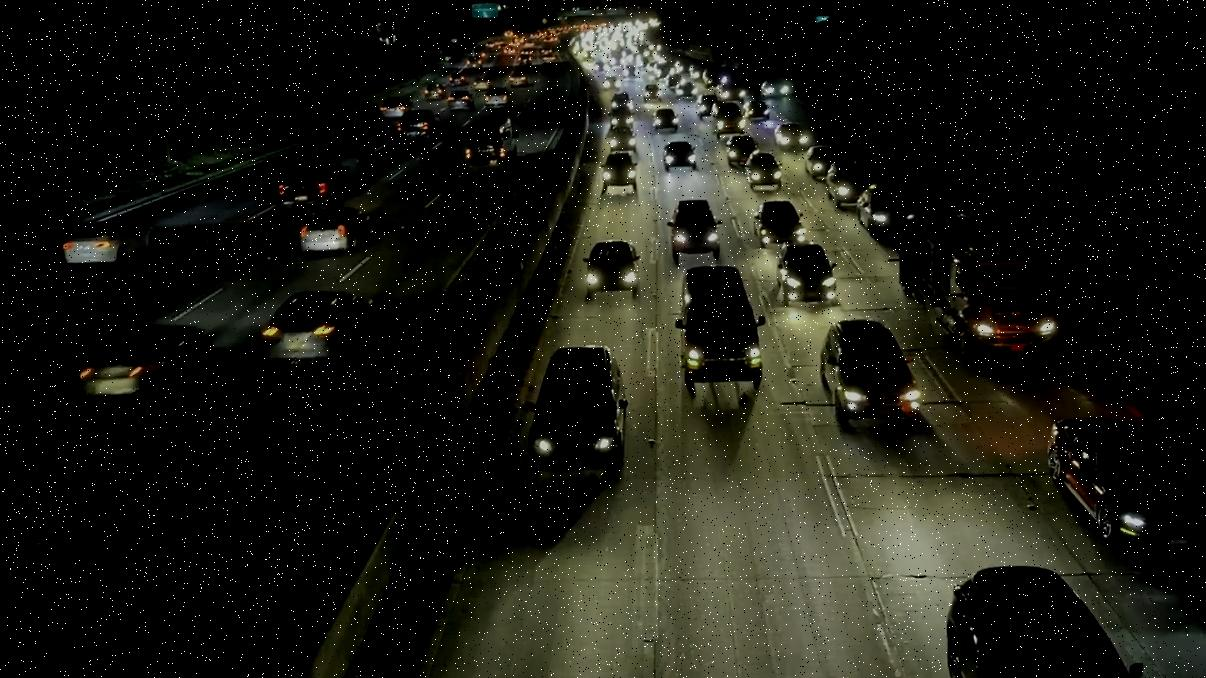car: (883, 203, 1060, 355), (943, 565, 1155, 678), (1045, 409, 1206, 555), (520, 337, 625, 472), (813, 312, 922, 425), (674, 264, 763, 396), (76, 324, 214, 403), (259, 292, 353, 375), (58, 220, 158, 269), (771, 240, 831, 305), (664, 199, 728, 257), (275, 160, 351, 203), (298, 209, 370, 253), (464, 118, 520, 170), (750, 198, 804, 249), (587, 242, 644, 288), (824, 164, 866, 204), (396, 110, 444, 141), (602, 151, 638, 191), (746, 151, 782, 190), (807, 145, 838, 175), (662, 141, 696, 168), (379, 96, 412, 118), (485, 86, 513, 108), (448, 90, 474, 112), (653, 108, 680, 128)
